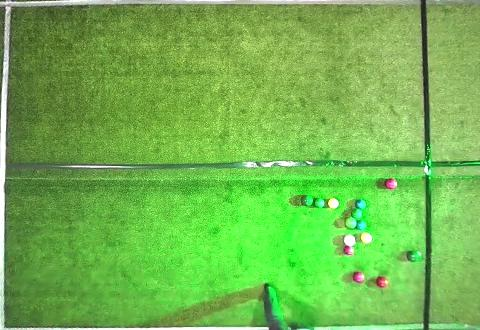blue: (355, 199, 366, 210), (357, 220, 367, 230)
green: (345, 217, 356, 229), (407, 251, 418, 262), (302, 196, 313, 206), (315, 198, 325, 208), (351, 210, 362, 219)
red: (376, 276, 388, 288), (344, 234, 356, 246), (353, 272, 365, 283), (385, 179, 397, 189), (344, 246, 354, 255)
vline: (420, 0, 479, 329), (0, 0, 14, 329)
white: (417, 252, 422, 257)
yellow: (328, 198, 339, 209), (361, 233, 372, 243)
